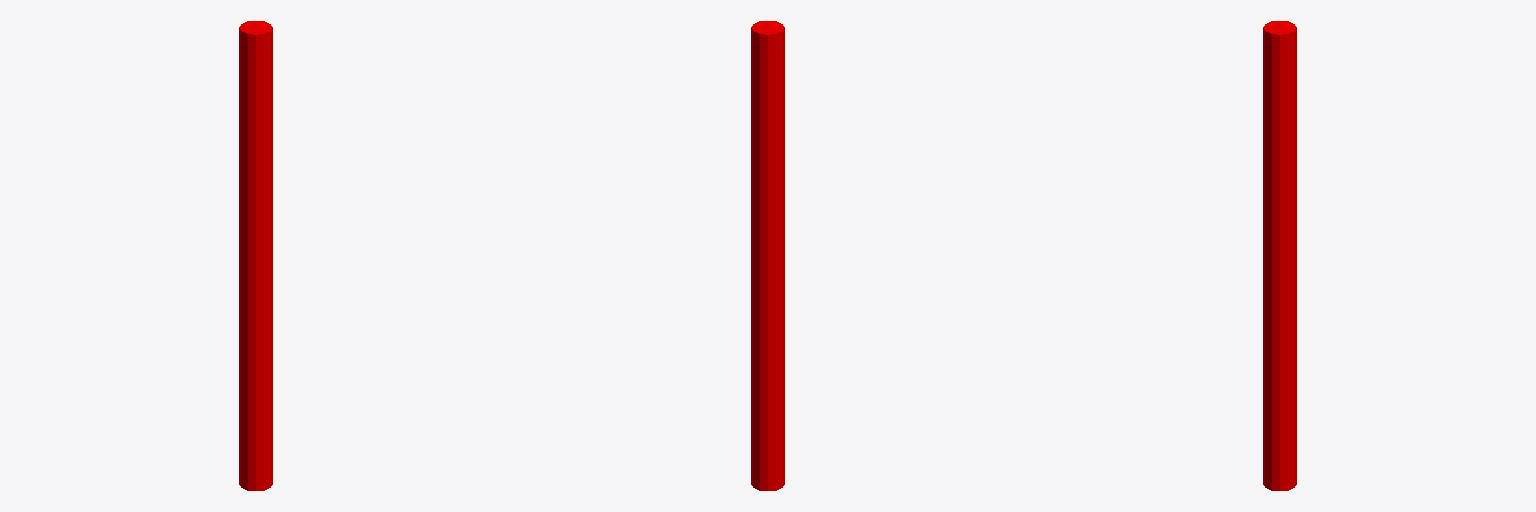
The robot description file, URDF, robot "qual_marker":
<robot
  name="qual_marker">
  <link
    name="qual_marker">
    <inertial>
      <origin
        xyz="2.3965E-07 -1.3189 1.0005"
        rpy="0 0 0" />
      <mass
        value="18.875" />
      <inertia
        ixx="22.8065287480022"
        ixy="-0.000111681399767615"
        ixz="-0.000119421608847911"
        iyy="14.6642752487651"
        iyz="0.00211707599867418"
        izz="8.15176829177702" />
    </inertial>
    <visual>
      <origin
        xyz="0 0 0"
        rpy="1.5707963267949 0 0" />
      <geometry>
        <mesh
          filename="package://qual_marker/meshes/qual_marker.dae" />
      </geometry>
      <material
        name="">
        <color
          rgba="1 0 0 1" />
      </material>
    </visual>
    <collision>
      <origin
        xyz="0 0 0"
        rpy="1.5707963267949 0 0" />
      <geometry>
        <mesh
          filename="package://qual_marker/meshes/qual_marker.dae" />
      </geometry>
    </collision>
  </link>
  <gazebo reference="bucket1">
    <material>Gazebo/Orange</material>
  </gazebo>
  <gazebo>
    <static>true</static>
  </gazebo>
</robot>

--- Facts derived from the render (not from the file) ---
3 views of the same robot in one strip: view 1: azimuth 30°, elevation 25°; view 2: azimuth 150°, elevation 25°; view 3: azimuth 270°, elevation 25° (orthographic).
Robot: qual_marker — 1 links, 0 joints (none); root link qual_marker; default pose: all joints at 0.
Links seen in each view (by area): view 1: qual_marker; view 2: qual_marker; view 3: qual_marker.
Link boxes in pixels (box(x1,y1,x2,y2)): qual_marker: box(239, 21, 272, 490); qual_marker: box(751, 21, 784, 490); qual_marker: box(1263, 21, 1296, 490).
Bounding box of the posed robot: 0.2 × 0.2 × 3 m (x, y, z).
1 mesh visuals loaded from 1 distinct referenced files (1 Collada DAE).